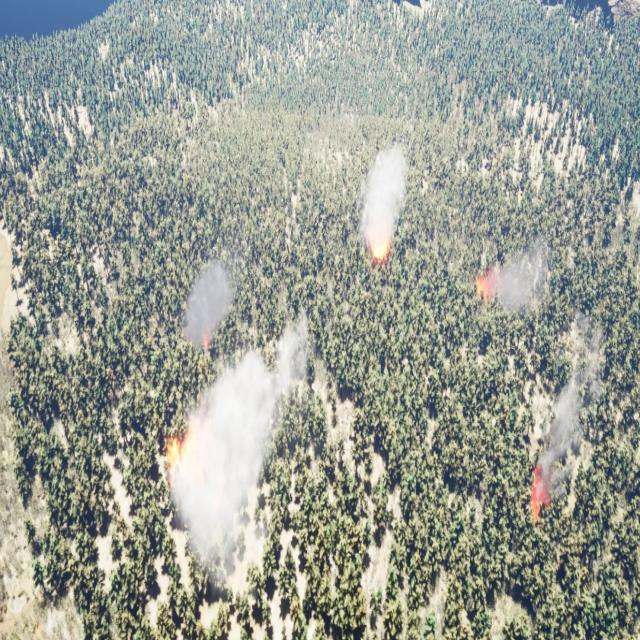fire: (168, 414, 202, 490), (475, 263, 499, 308), (531, 464, 547, 529), (369, 229, 391, 263)
smoke: (171, 306, 310, 579), (537, 308, 606, 500), (187, 260, 234, 361), (364, 145, 411, 243), (491, 239, 546, 306)
